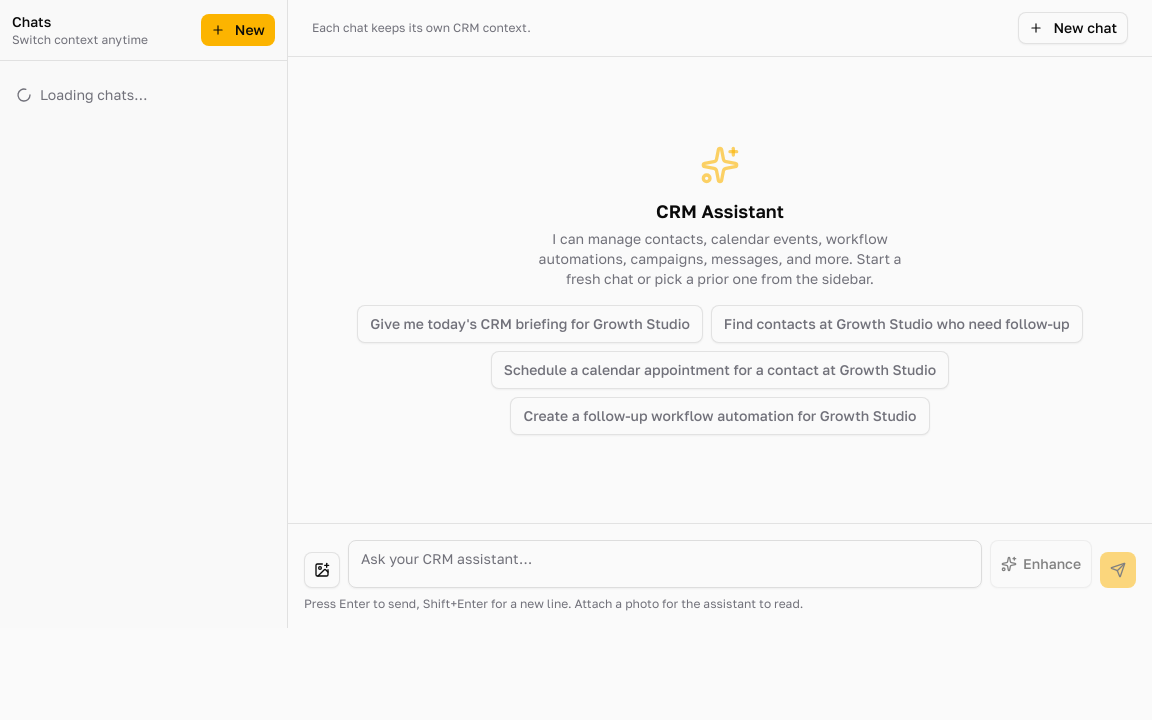
AssistantChat › renders failed tool status with inspectable inputs and results
Type "Load contact 999" into the text box with placeholder "Ask your CRM assistant…". click: x=665, y=564
box: 348,540 -> 982,588
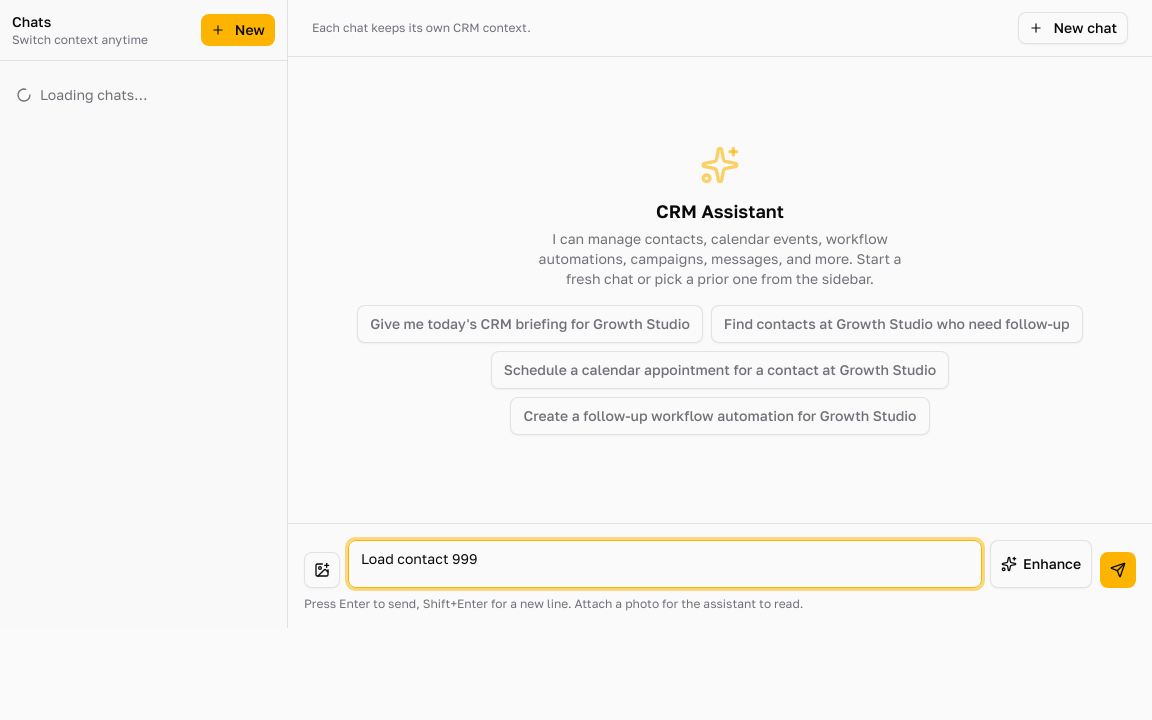
Click the button named "Send message". click: x=1118, y=570
box: 1100,552 -> 1136,588
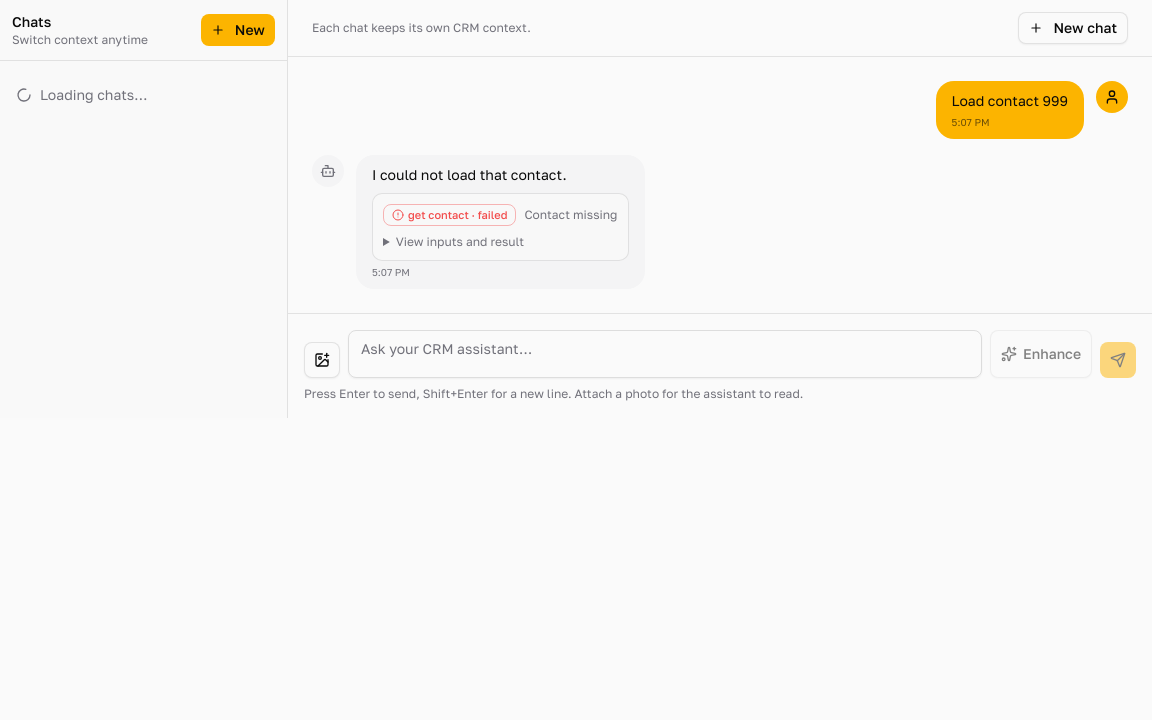
Now the text "I could not load that contact." is shown, box 372,166 -> 567,183
Now the text "get contact · failed" is shown, box 383,204 -> 516,226
Now the text "Contact missing" is shown, box 524,207 -> 618,223
Click the heading "View inputs and result". click: x=460, y=242
box: 396,234 -> 524,249
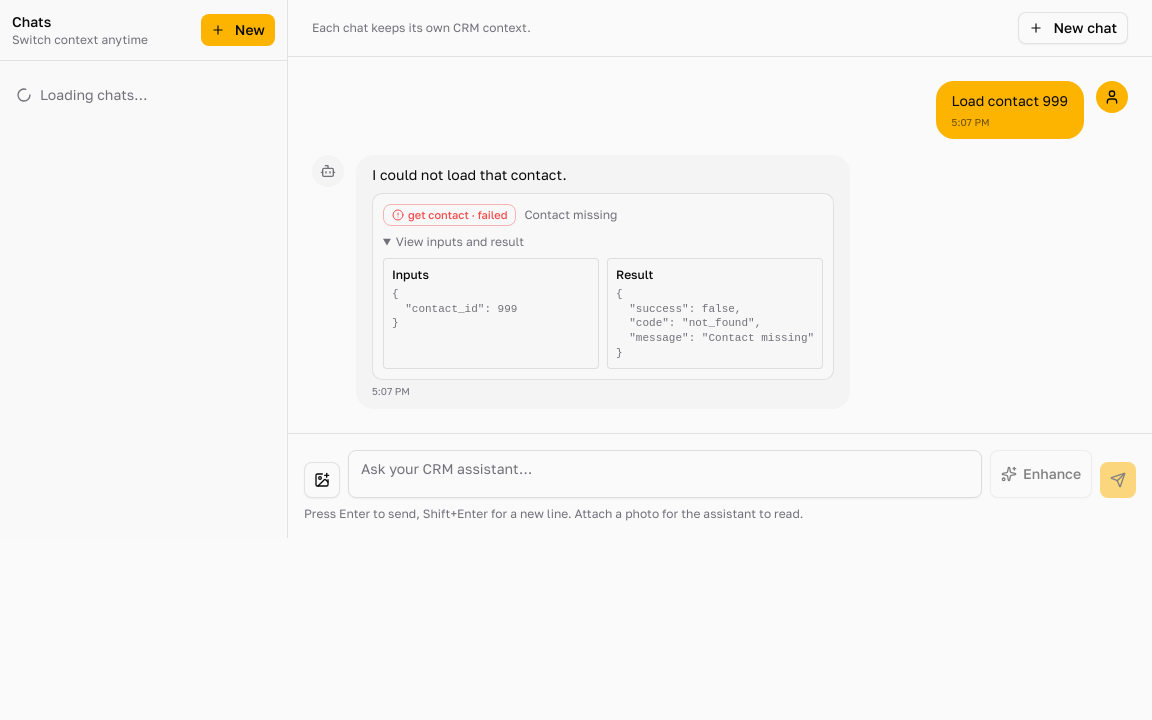
Now the text "Inputs" is shown, box 392,267 -> 429,282
Now the text "{ \"contact_id\": 999 }" is shown, box 392,288 -> 517,329
Now the text "\"code\": \"not_found\"" is shown, box 616,288 -> 814,359
